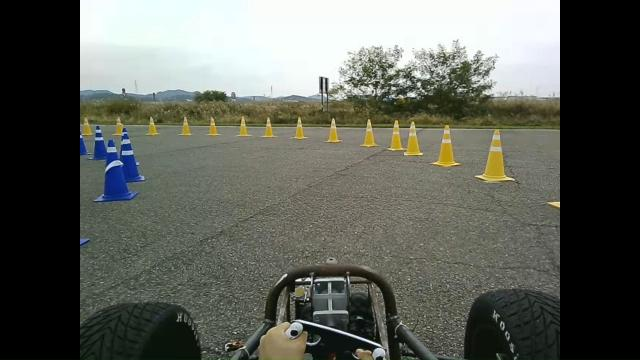blue cone: (94, 136, 141, 205), (87, 125, 108, 160)
yellow cone: (474, 129, 515, 182), (430, 124, 462, 167), (404, 121, 423, 156), (385, 119, 405, 151), (359, 118, 380, 147), (324, 118, 342, 142), (290, 116, 308, 139), (235, 115, 252, 137), (260, 116, 276, 138)
